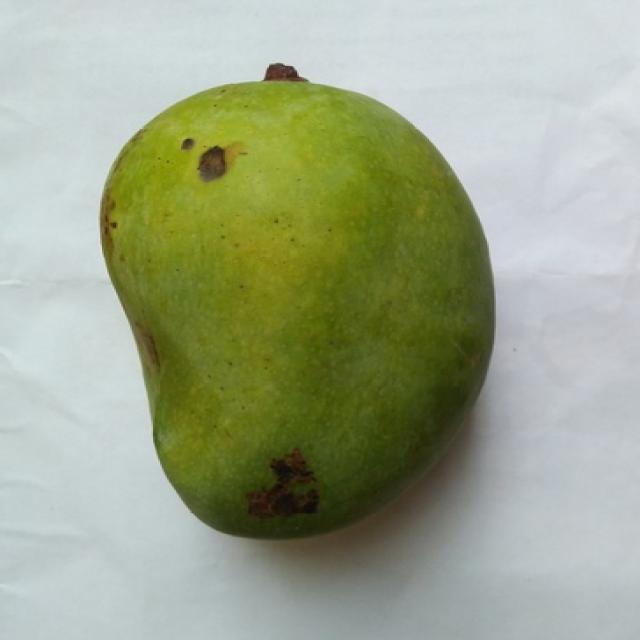Mango: (102, 66, 494, 537)
